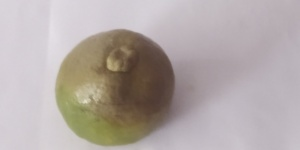BAD: (52, 30, 177, 146)
